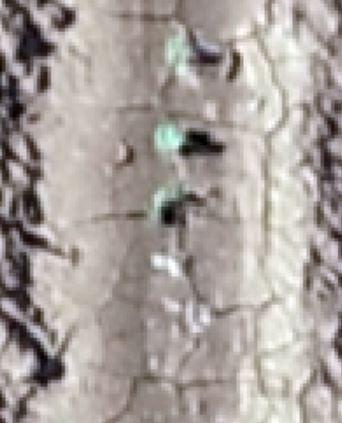cotton: (154, 185, 186, 209), (165, 39, 189, 65), (159, 126, 183, 147)
